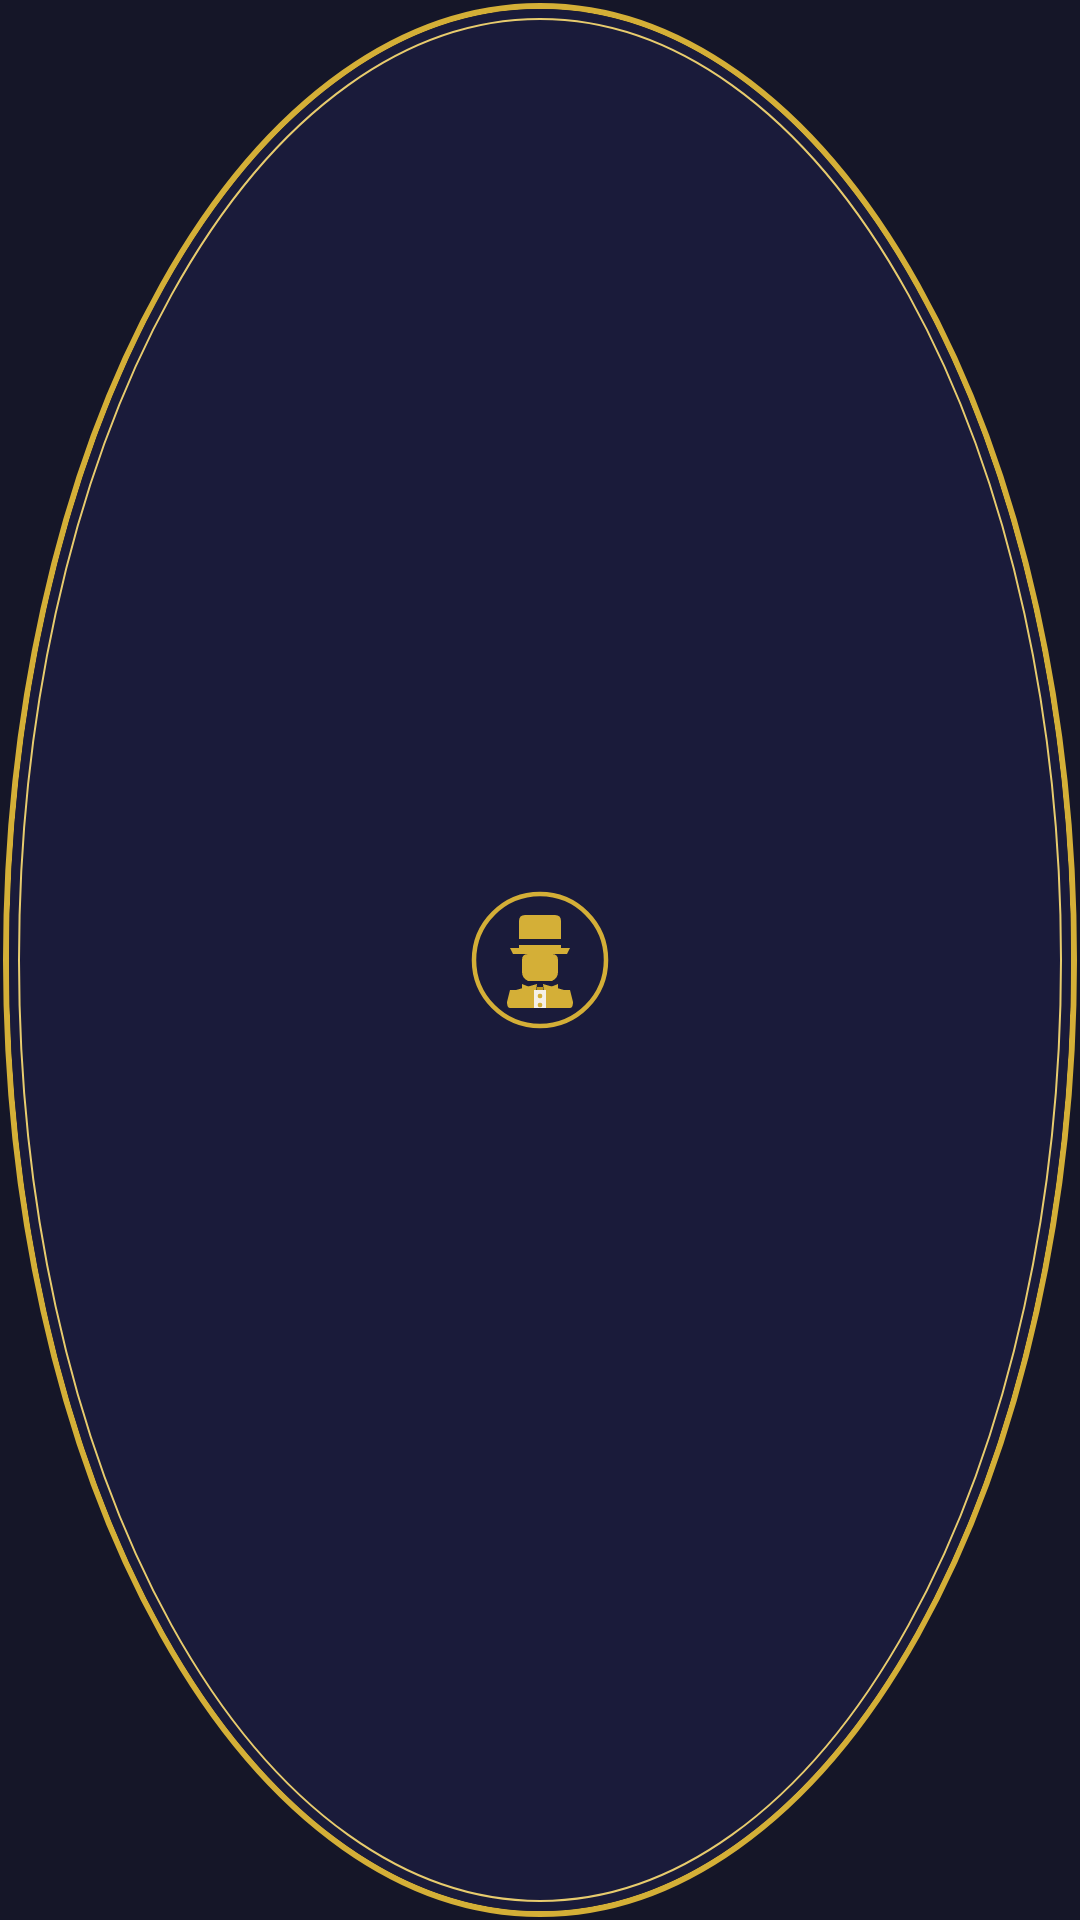

Icons on this 1080×1920 Android screen, each with its box as rect(x1, y1, x2, y2):
J-AI-mes butler app: rect(471, 891, 609, 1029)
